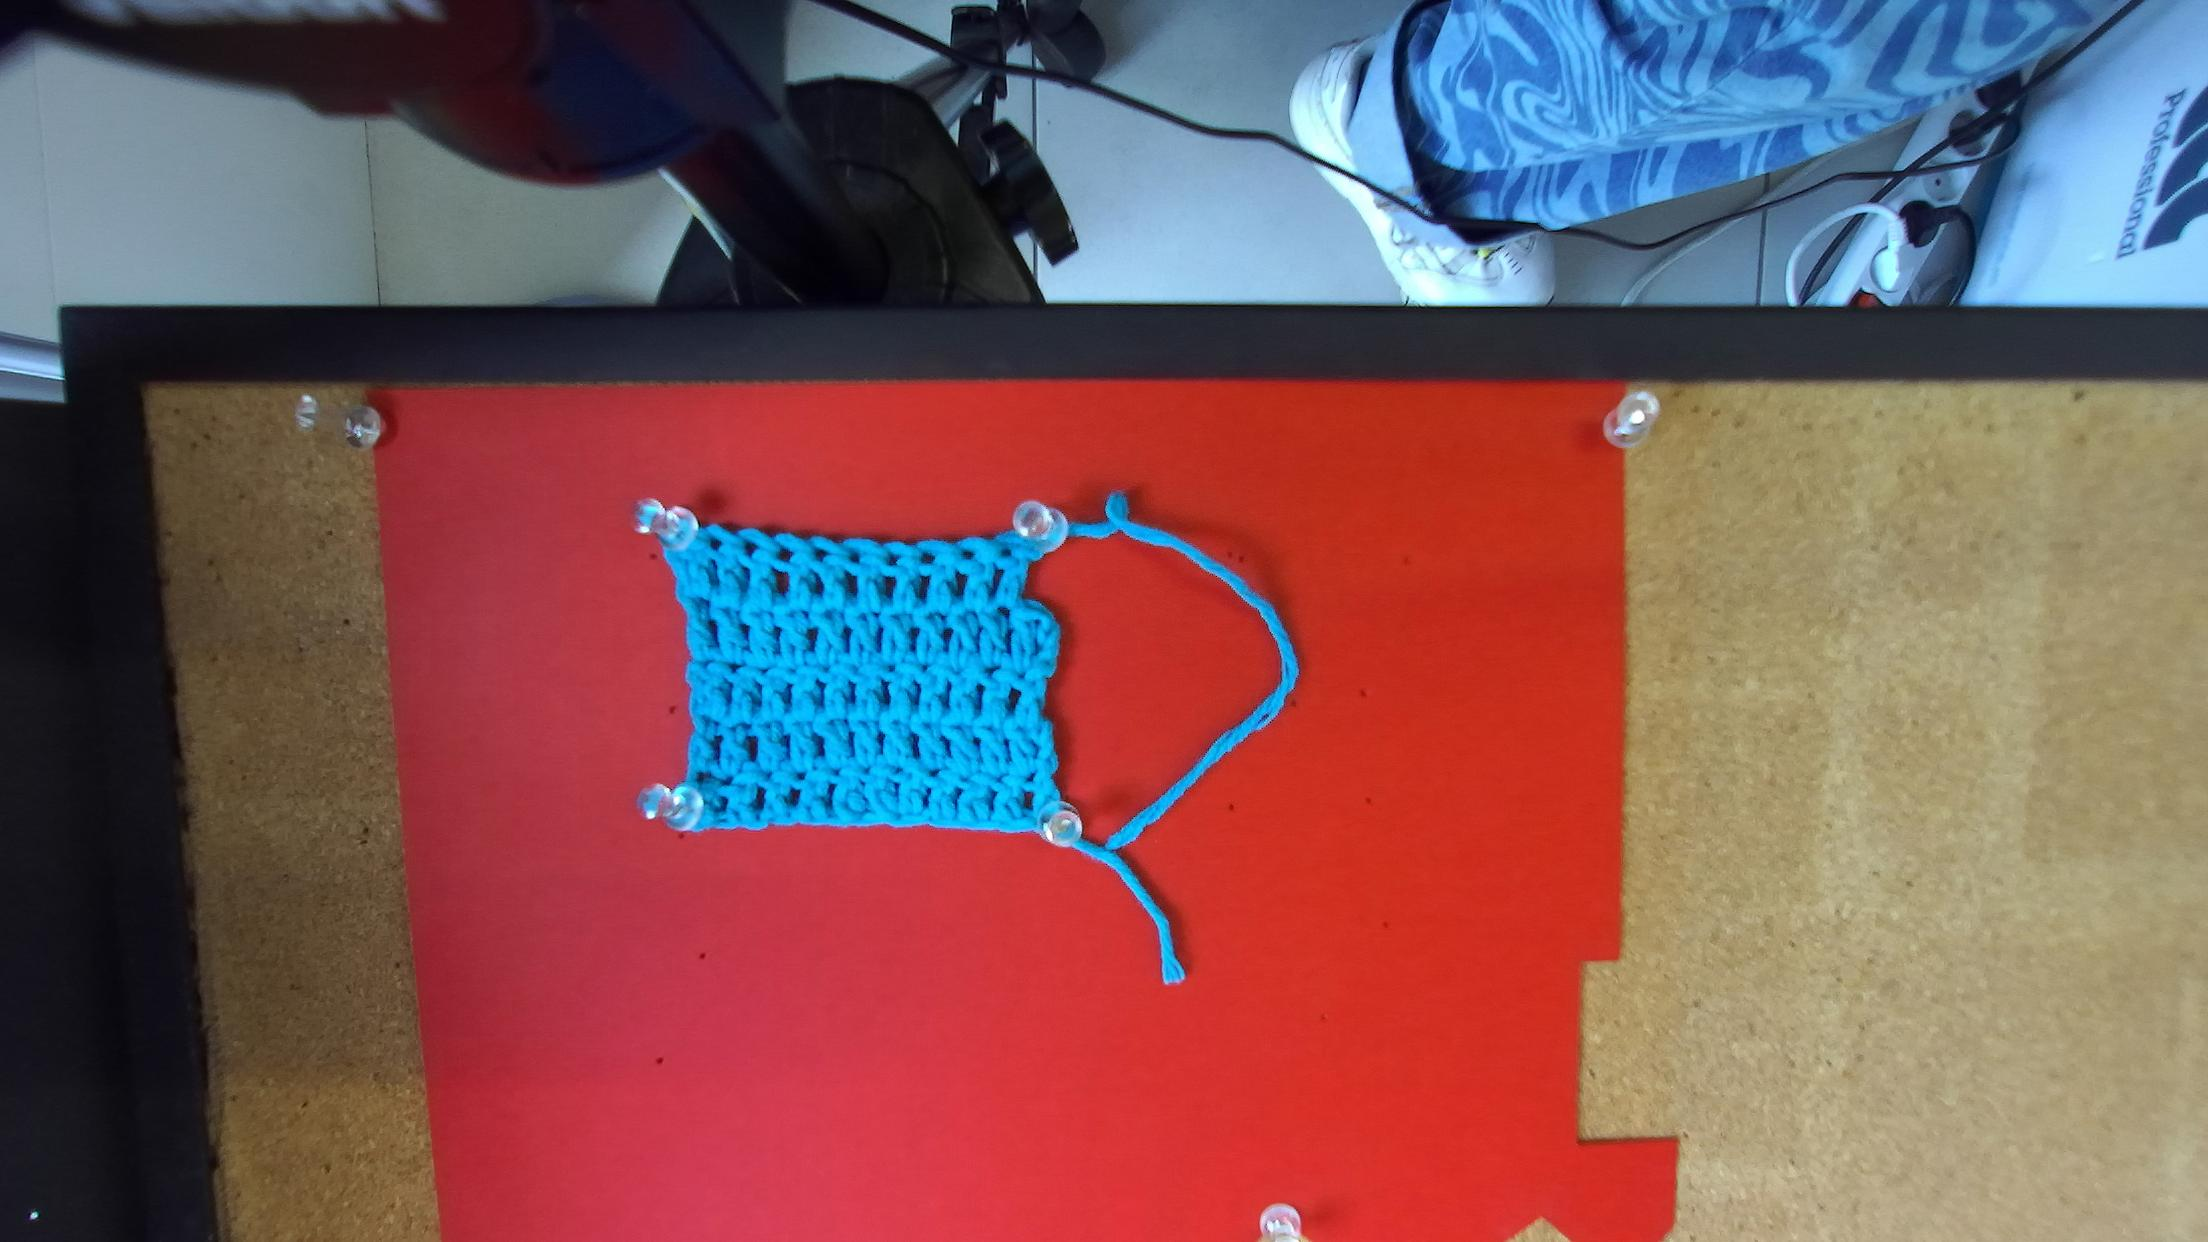hole: (776, 543, 795, 563), (708, 535, 725, 554), (884, 552, 901, 567), (921, 549, 937, 564), (813, 549, 831, 563), (745, 541, 758, 557), (848, 550, 863, 564), (960, 547, 974, 561), (998, 547, 1013, 557)
swatch: (638, 511, 1089, 840)
